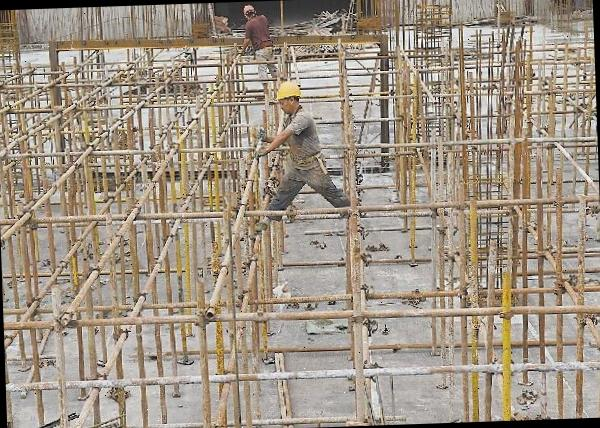helmet: (274, 81, 304, 101), (242, 3, 258, 13)
no_wear: (280, 110, 320, 170), (247, 15, 271, 47)
